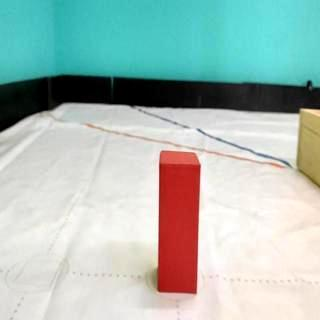redbox: (158, 150, 198, 294)
